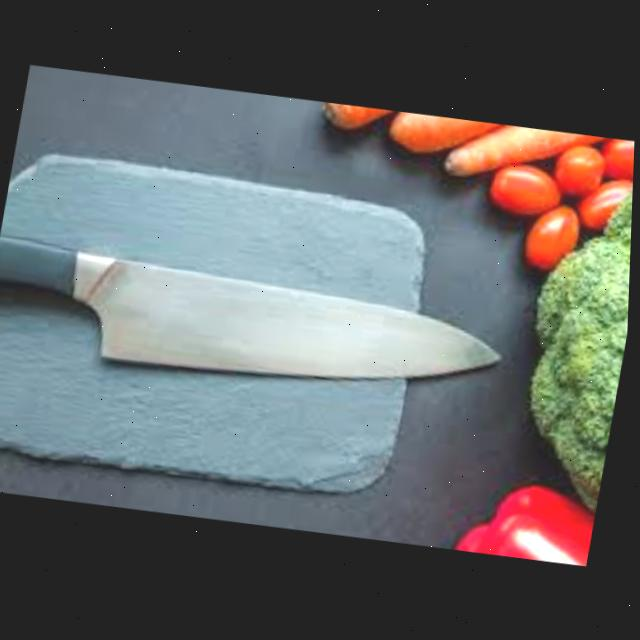Knife: (0, 223, 519, 415)
